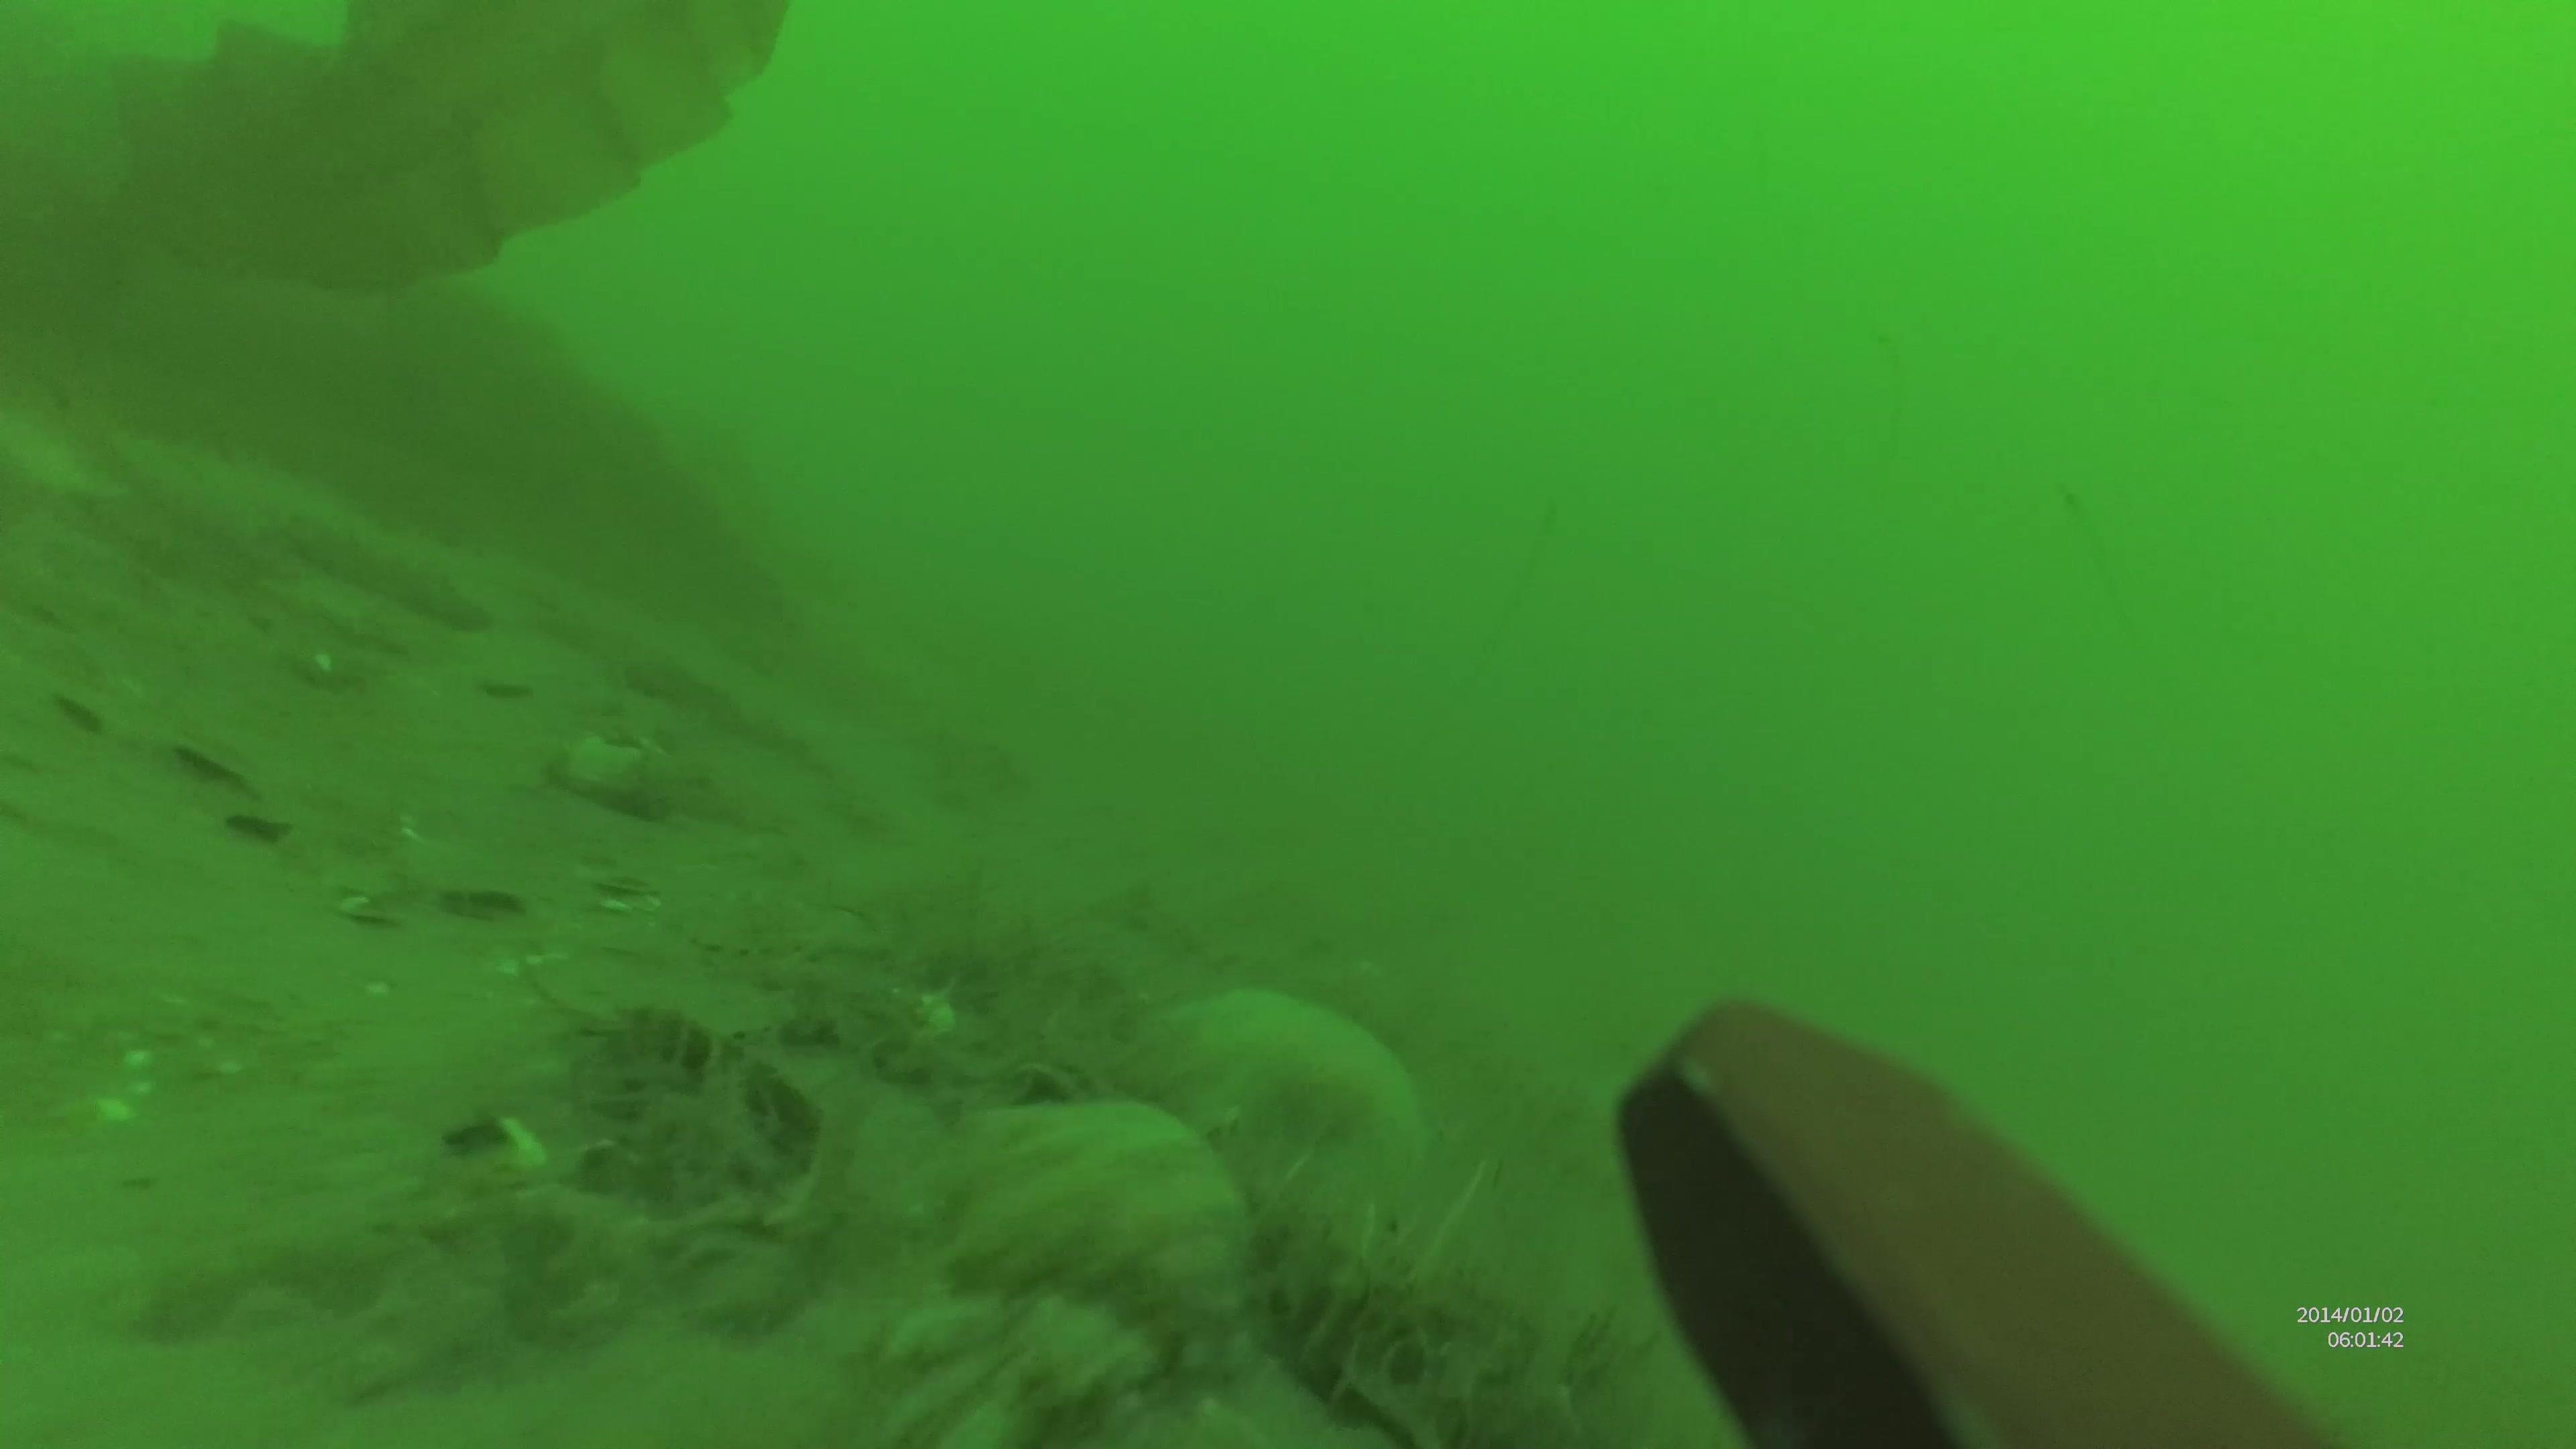starfish: (955, 1102, 1258, 1318), (1157, 977, 1433, 1182)
